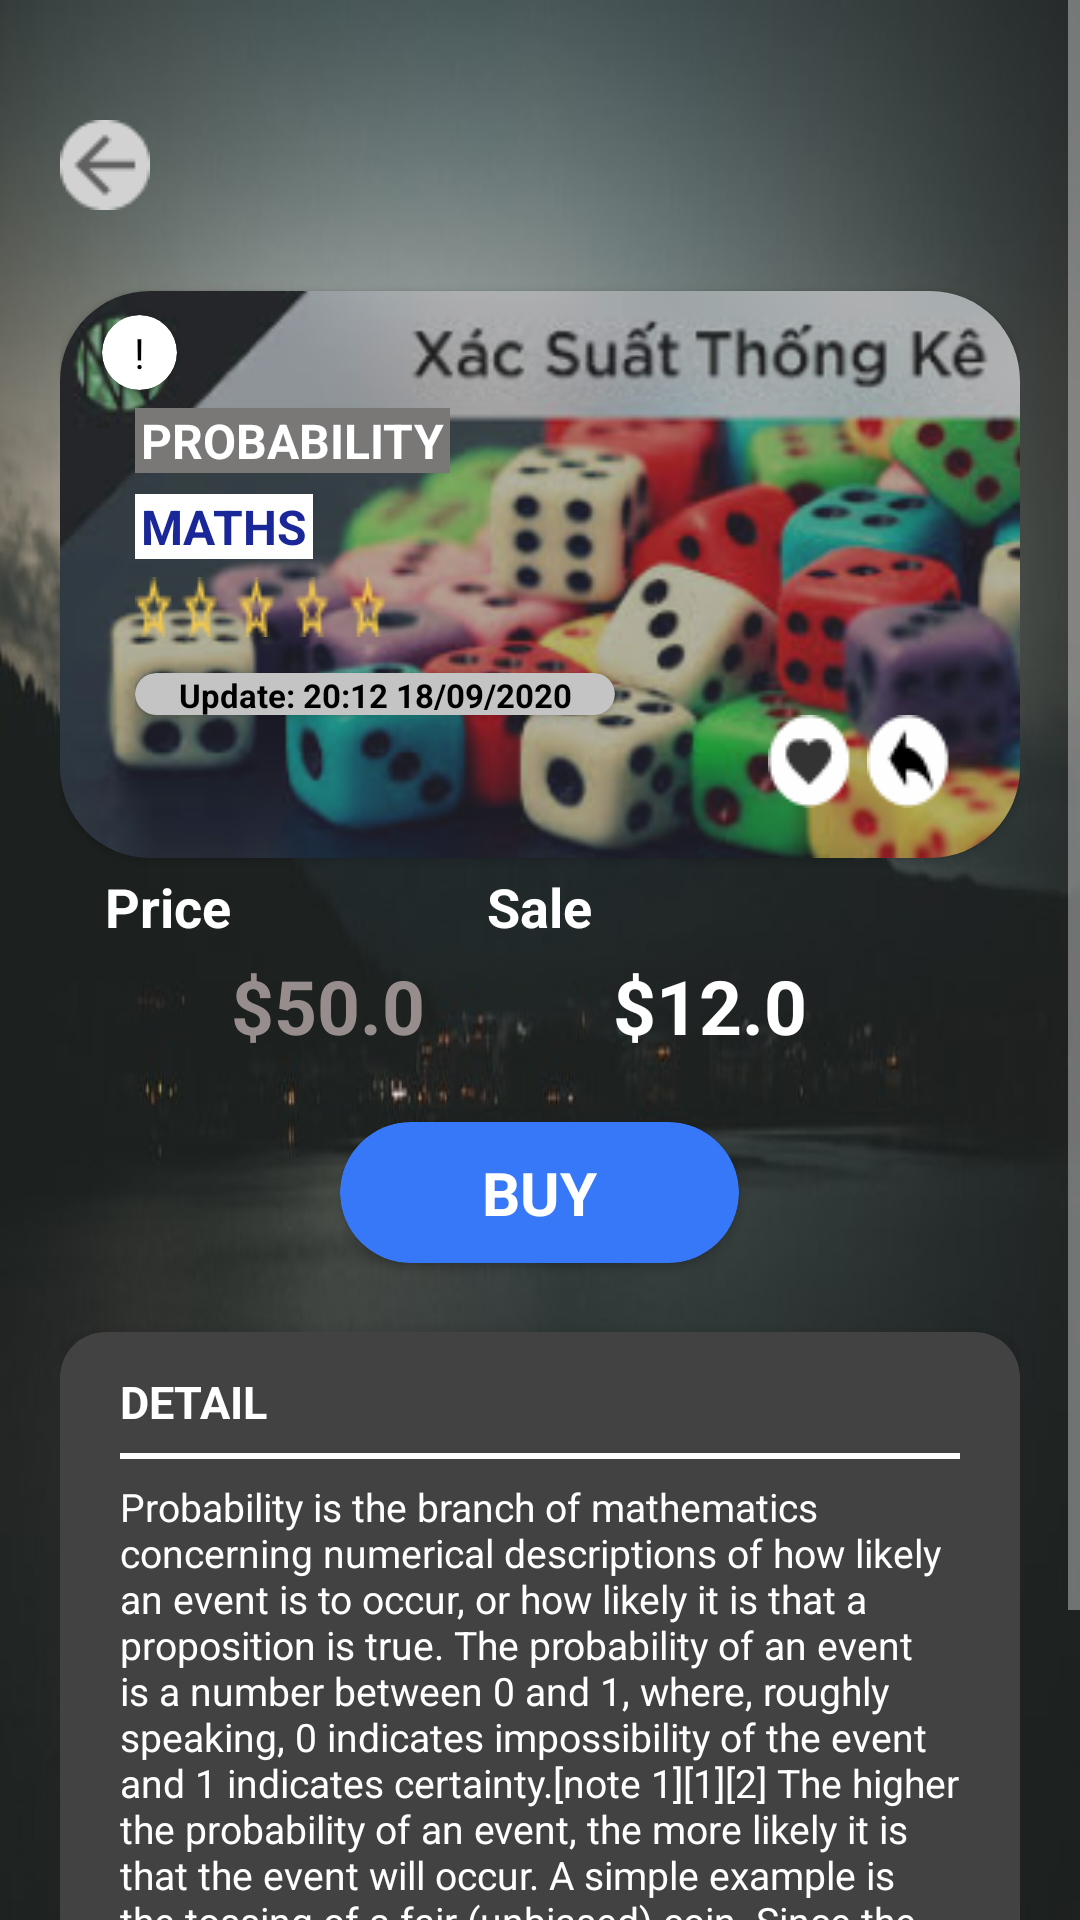

Screen size 1080x1920. Icon name, then its center in pixels as (x=x, y=y):
back: (x=105, y=165)
love: (x=810, y=761)
share: (x=909, y=761)
